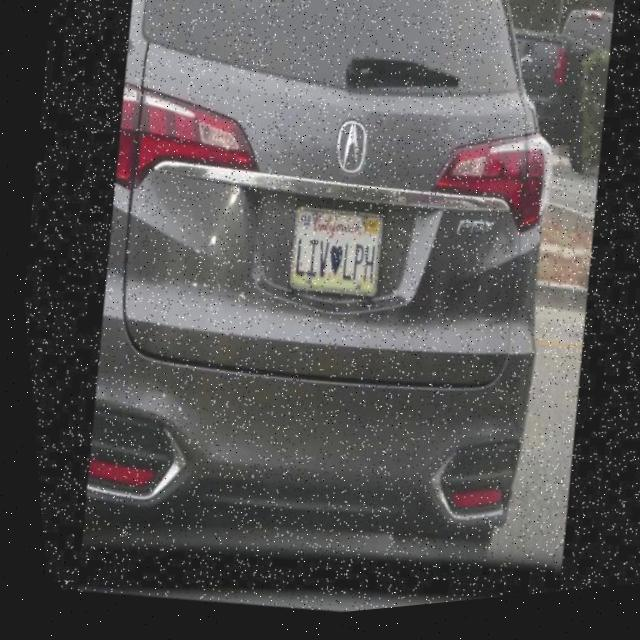LicensePlate: (274, 185, 392, 315)
